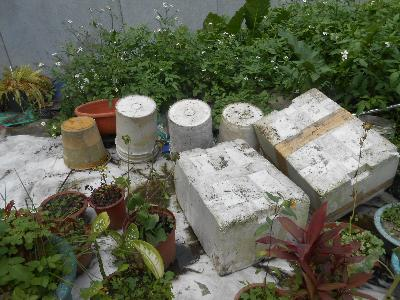bowl: (72, 92, 124, 138)
bucket: (113, 94, 161, 164), (58, 116, 113, 174), (166, 95, 215, 154), (217, 99, 266, 153)
styrofoam: (256, 87, 400, 225), (174, 139, 311, 276)
